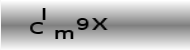9: (75, 17, 89, 30)
C: (28, 21, 44, 34)
X: (92, 16, 108, 33)
l: (41, 6, 47, 21)
m: (53, 28, 75, 40)
